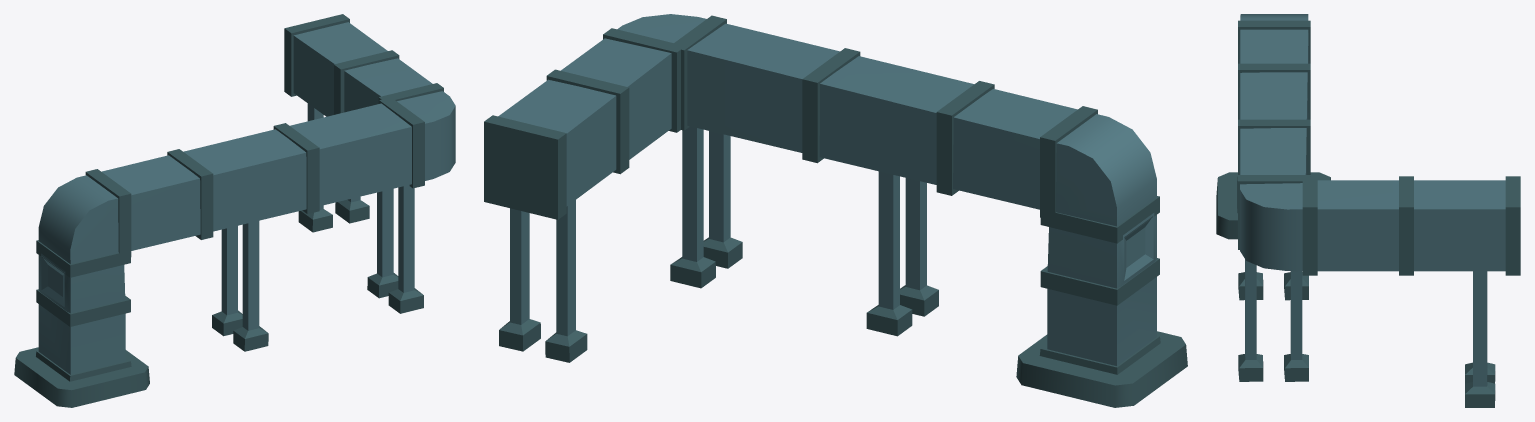
File: Vent_2_D_7.fbx
3 views of the same model, side by side, from view 1: azimuth 30°, elevation 25°; view 2: azimuth 150°, elevation 25°; view 3: azimuth 270°, elevation 25° (orthographic). The views are drawn at different scales.
Visible parts, largest first — view 1: Vent_2_D_7; view 2: Vent_2_D_7; view 3: Vent_2_D_7.
Boxes of the visible parts, box(x1,y1,x2,y2) form: Vent_2_D_7: box(14, 14, 455, 407); Vent_2_D_7: box(484, 14, 1187, 407); Vent_2_D_7: box(1216, 14, 1520, 407).
Bounding box in the file's own units: 257 × 111 × 149.
